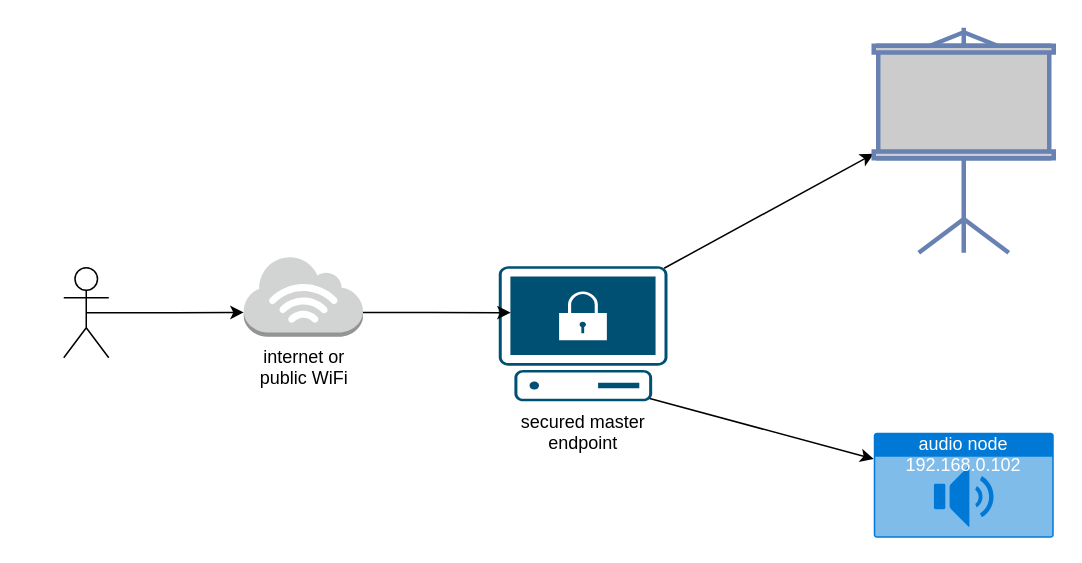
The diagram is 1082 pixels wide and 563 high, and some of its shapes have lost their labels. The shapes that lost their labels are listed below. From the top down, each one's box as (x1, y1, x2, y2) in pixels, then its label:
(872, 26, 1054, 254): screen node 192.168.0.101
(62, 266, 109, 358): your game room customer
